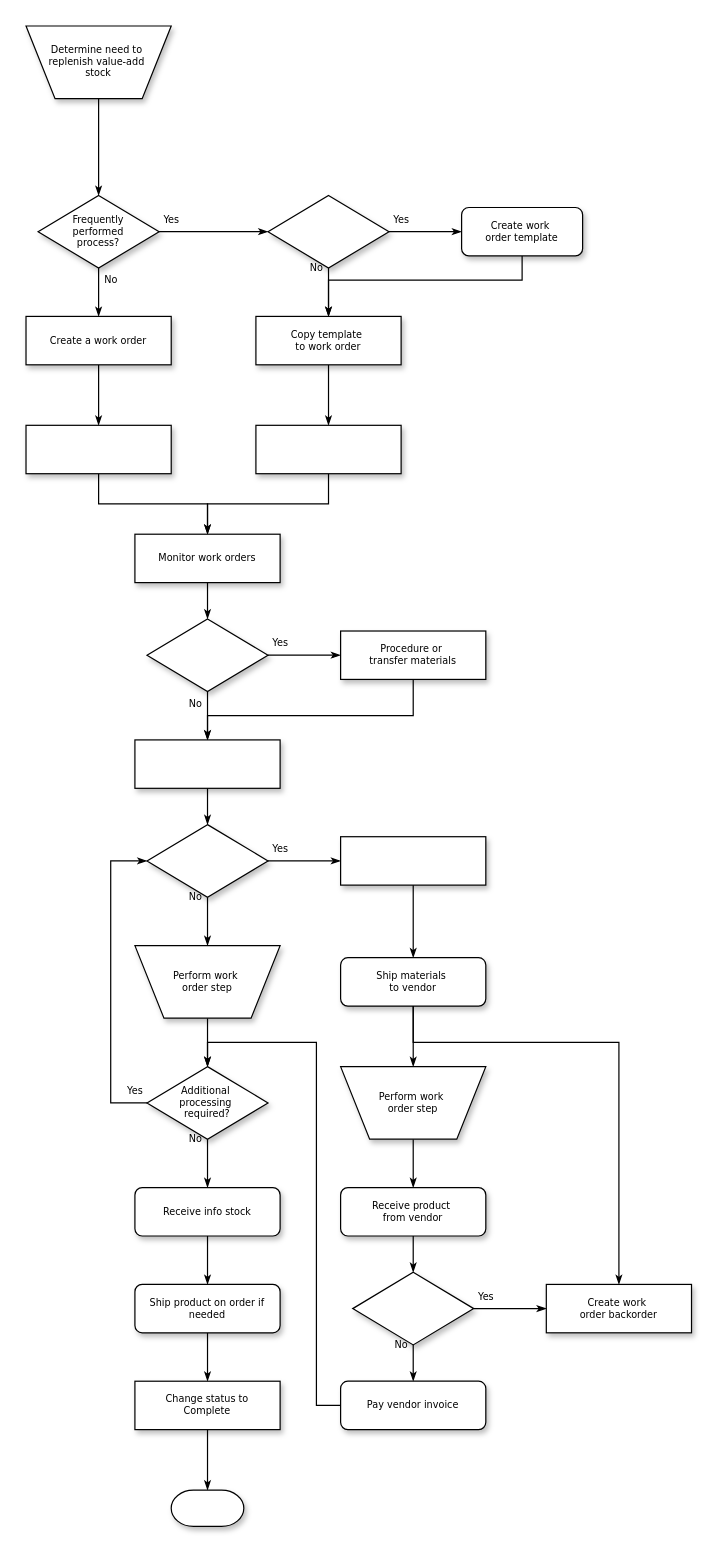
Some shapes in this 720 by 1556 pixel diagram are drawn without their labels. The shapes that lost their labels are listed below. From the top down, each one's centre as x and y in pixels, then its label:
the point at 329,232: New template needed?
the point at 99,450: Add materials to work order processes
the point at 329,450: Adjust material quantities if needed
the point at 208,656: Material quantities not in stock?
the point at 208,765: Change status to In Process
the point at 208,862: Step performed by outside vendor?
the point at 414,862: Add or adjust vendor costs
the point at 414,1309: Only partial quality received?
the point at 208,1509: End
